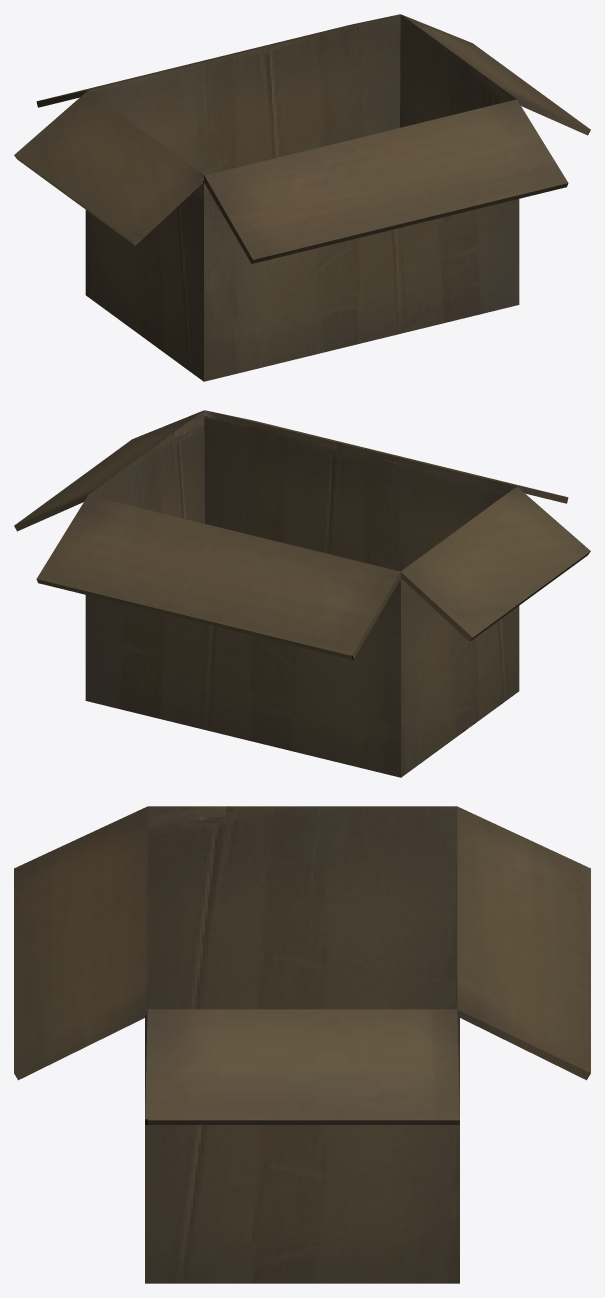
Rendered from crate.glb.
3 renders of one model, top to bottom at view 1: azimuth 30°, elevation 25°; view 2: azimuth 150°, elevation 25°; view 3: azimuth 270°, elevation 25°, orthographic. The views are drawn at different scales.
Visible parts, largest first — view 1: Box_T_03; view 2: Box_T_03; view 3: Box_T_03.
Boxes of the visible parts, x1,y1,x2,y2 form: Box_T_03: (14,14,590,381); Box_T_03: (14,410,590,777); Box_T_03: (14,806,590,1283).
Size of the model in its own units: 1 by 0.4292 by 0.8214.
1 material, 1 textured.
